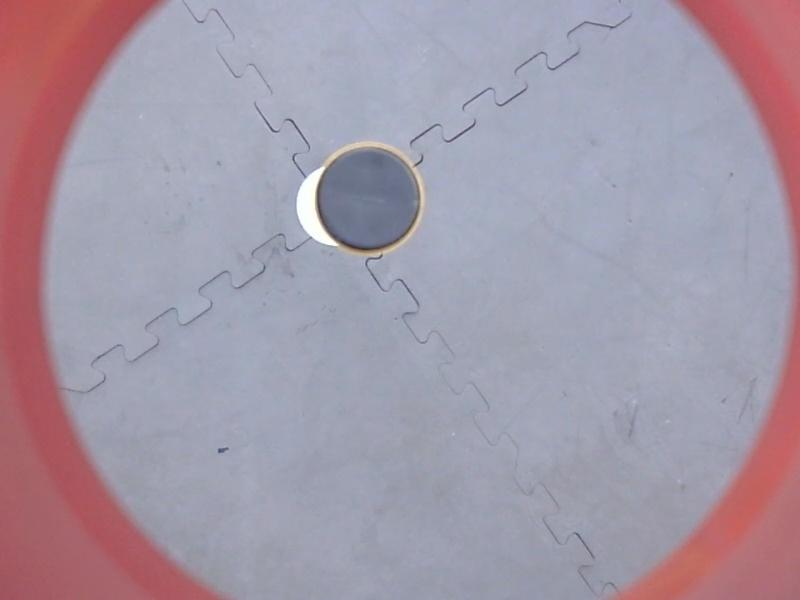tip: (310, 137, 433, 262)
